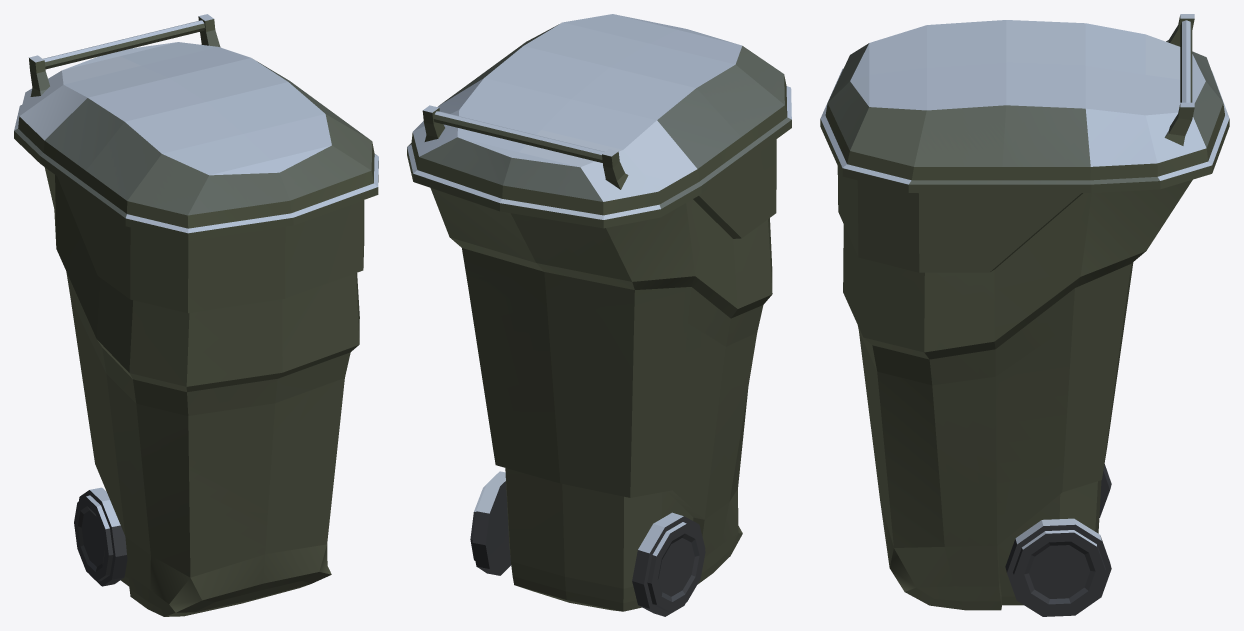
File: bin_wheelie.glb
3 views of the same model, side by side, from view 1: azimuth 30°, elevation 25°; view 2: azimuth 150°, elevation 25°; view 3: azimuth 270°, elevation 25° (orthographic). The views are drawn at different scales.
Parts seen in each view (by area): view 1: Prop; view 2: Prop; view 3: Prop.
Boxes of the visible parts, <box> form: Prop: <box>14,14,378,616</box>; Prop: <box>407,14,791,616</box>; Prop: <box>820,14,1229,616</box>.
Size of the model in its own units: 0.578 by 1.05 by 0.7557.
